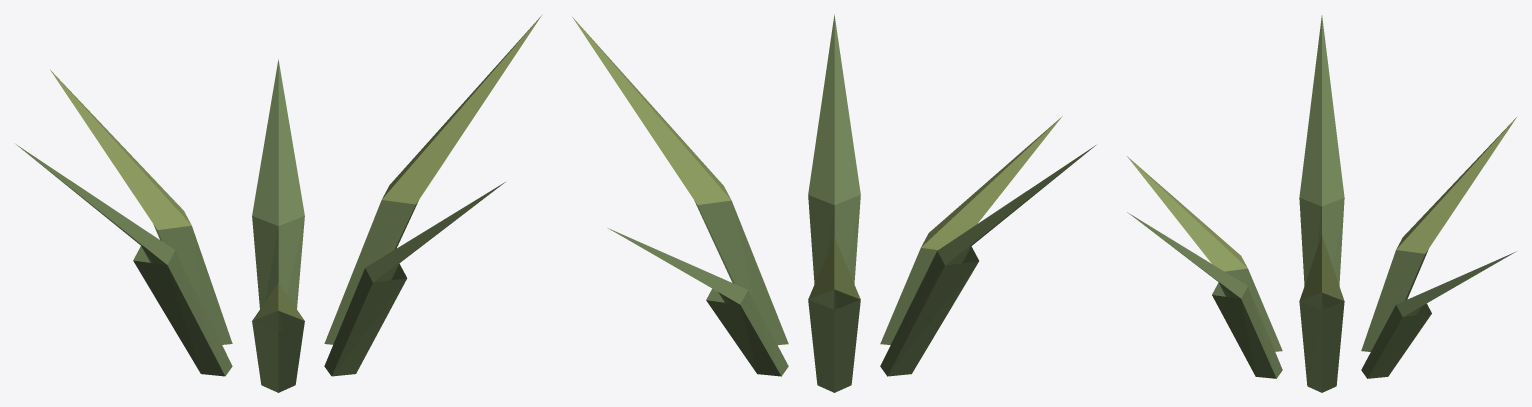
File: bit_crack_weed.glb
3 views of the same model, side by side, from view 1: azimuth 30°, elevation 25°; view 2: azimuth 150°, elevation 25°; view 3: azimuth 270°, elevation 25° (orthographic). The views are drawn at different scales.
Parts seen in each view (by area): view 1: Weed_Mesh, WeedTip_Mesh; view 2: Weed_Mesh, WeedTip_Mesh; view 3: Weed_Mesh, WeedTip_Mesh.
Boxes of the visible parts, left/top/right/bottom form: Weed_Mesh: left=16, top=59, right=505, bottom=392; WeedTip_Mesh: left=50, top=14, right=542, bottom=320; Weed_Mesh: left=608, top=14, right=1095, bottom=392; WeedTip_Mesh: left=572, top=17, right=1062, bottom=299; Weed_Mesh: left=1127, top=15, right=1516, bottom=392; WeedTip_Mesh: left=1127, top=117, right=1516, bottom=301.
Bounding box in the file's own units: 0.3 × 0.15 × 0.2253.
